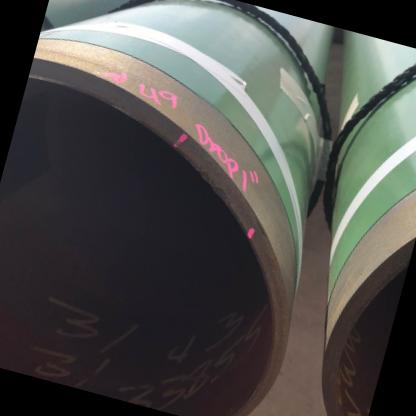Bevel: (191, 165, 236, 199)
